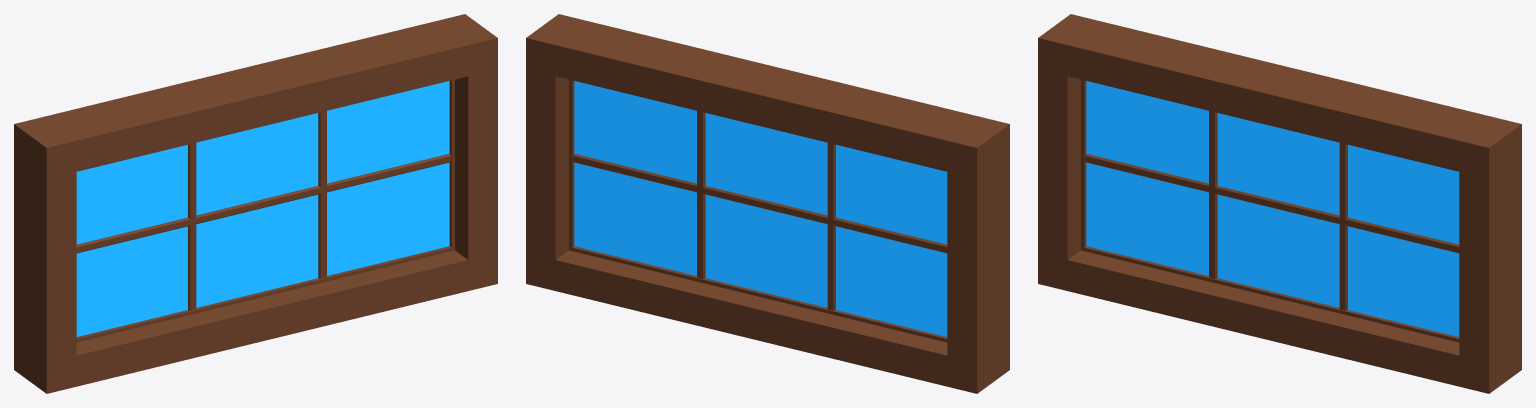
The model's file is janela_larga_grade_3x2_madeira.glb.
The picture shows the model from 3 angles, left to right: view 1: azimuth 30°, elevation 25°; view 2: azimuth 150°, elevation 25°; view 3: azimuth 330°, elevation 25°; orthographic projection.
Visible parts, largest first — view 1: janela_larga_grade_3x2_madeira; view 2: janela_larga_grade_3x2_madeira; view 3: janela_larga_grade_3x2_madeira.
Part boxes in pixels (x1=…): janela_larga_grade_3x2_madeira: x1=14, y1=14, x2=497, y2=393; janela_larga_grade_3x2_madeira: x1=526, y1=14, x2=1009, y2=393; janela_larga_grade_3x2_madeira: x1=1038, y1=14, x2=1521, y2=393.
Bounding box in the file's own units: 1.67 × 0.87 × 0.21.
